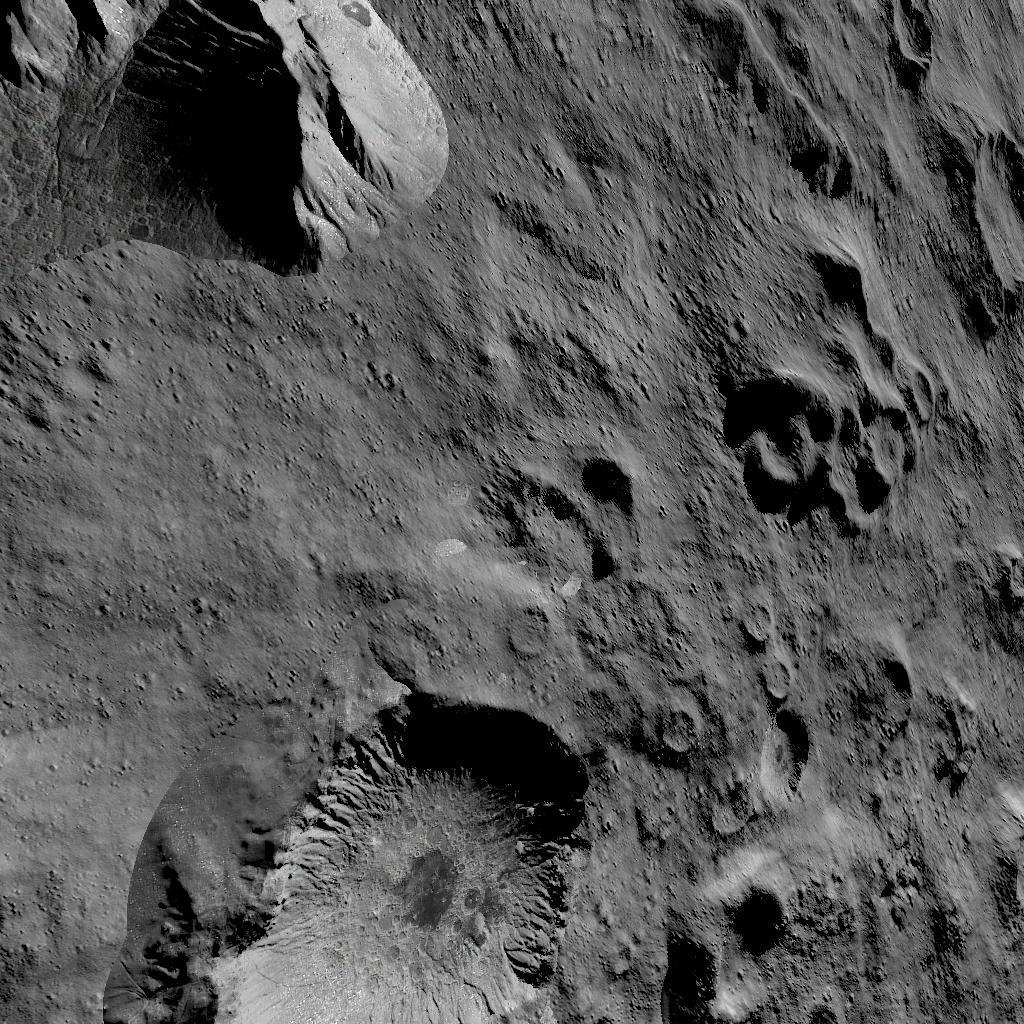Boulders: (0, 0, 452, 280)
Crater: (101, 645, 598, 1024), (701, 227, 929, 535), (475, 430, 665, 606), (661, 848, 793, 1024), (845, 638, 982, 790), (941, 110, 1024, 310), (854, 0, 952, 82)
Plan surface: (76, 302, 456, 620)
